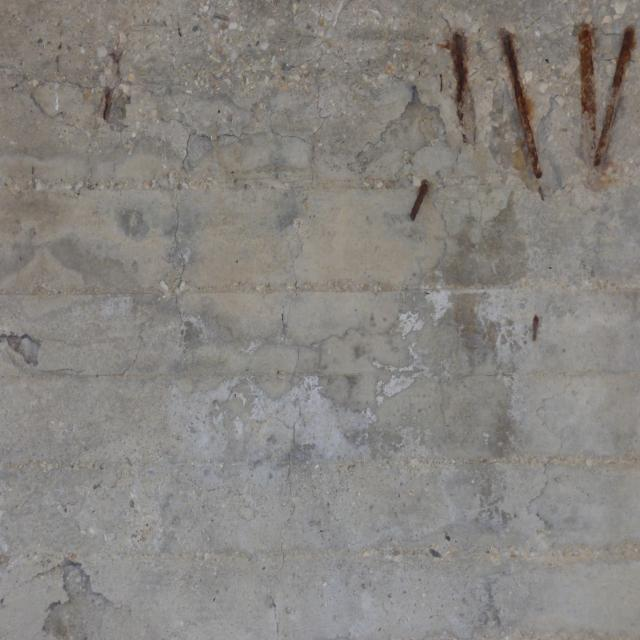corrosion: (391, 3, 635, 235), (80, 38, 130, 128), (529, 307, 541, 344)
